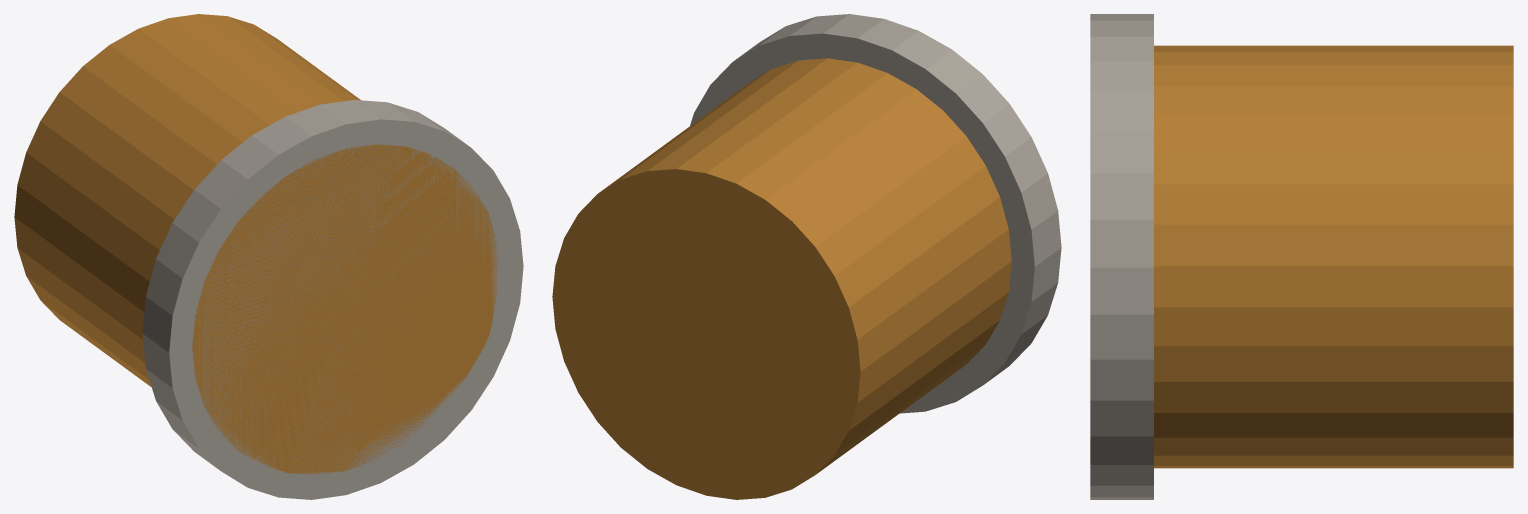
The model's file is Engine-pipe.glb.
3 renders of one model, left to right at view 1: azimuth 30°, elevation 25°; view 2: azimuth 150°, elevation 25°; view 3: azimuth 270°, elevation 25°, orthographic. The views are drawn at different scales.
Visible parts, largest first — view 1: Cylinder, Cylinder.001; view 2: Cylinder, Cylinder.001; view 3: Cylinder, Cylinder.001.
Part boxes in pixels (bbox=[...]): Cylinder: bbox=[14, 14, 498, 474]; Cylinder.001: bbox=[142, 100, 523, 499]; Cylinder: bbox=[552, 58, 1011, 499]; Cylinder.001: bbox=[690, 14, 1061, 413]; Cylinder: bbox=[1154, 45, 1513, 468]; Cylinder.001: bbox=[1090, 14, 1153, 499].
Size of the model in its own units: 2.3 by 2.3 by 2.
